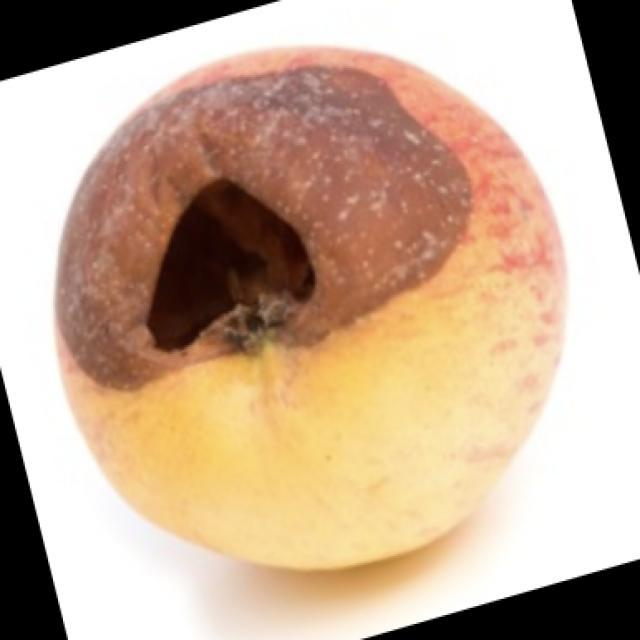Rotten: (55, 49, 558, 568)
